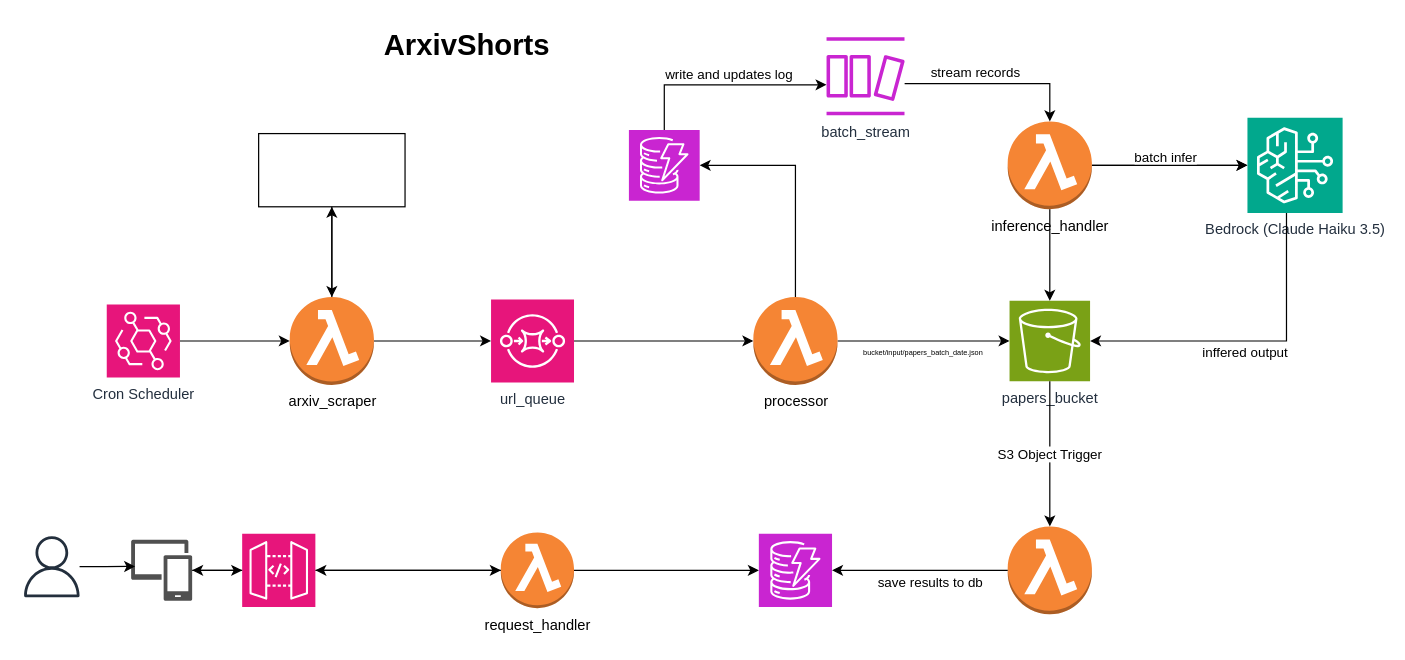
The diagram is 1405 pixels wide and 660 high, and some of its shapes have lost their labels. Each missing label, with the box of its shape:
api gateway: (241, 533, 315, 607)
arxiv api end point: (257, 132, 405, 207)
batch_statistics: (628, 129, 700, 201)
db_loader: (1006, 525, 1092, 614)
papers_table: (758, 533, 832, 607)
